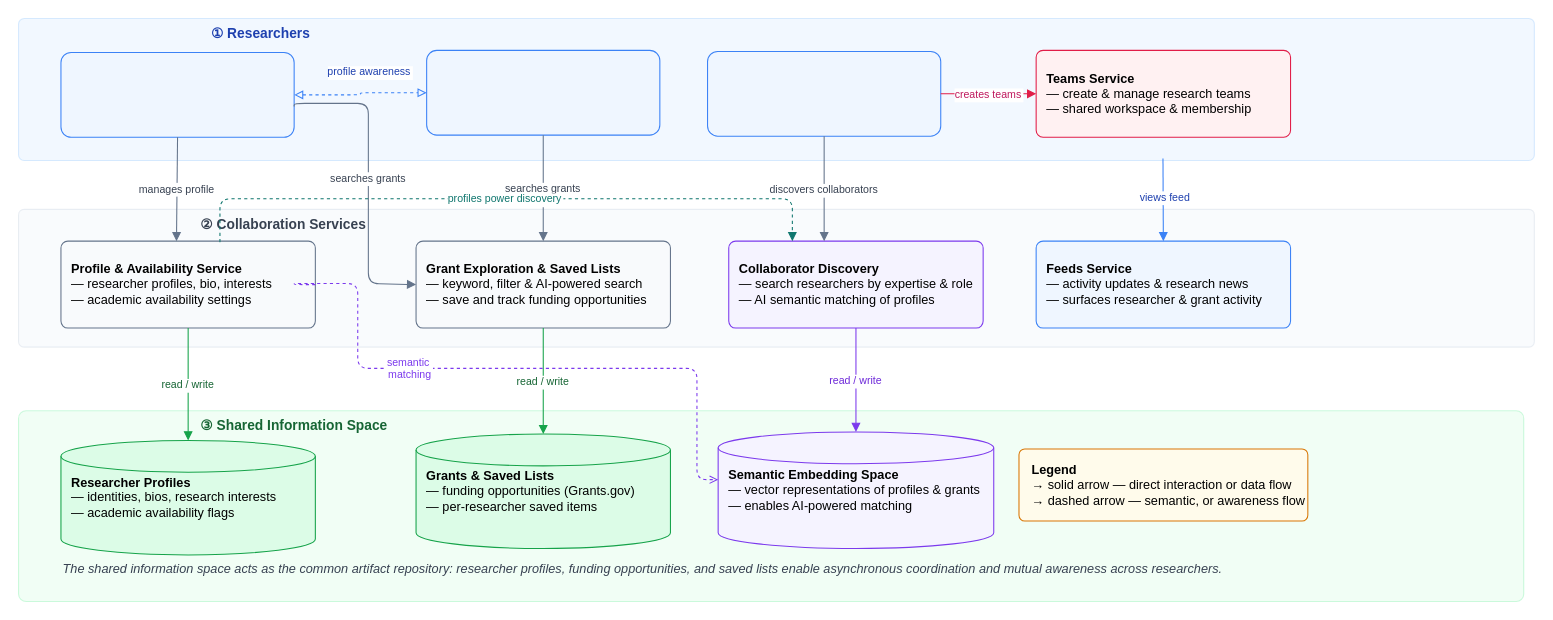
This 1553x620 diagram has some shape labels left out. Here are the shapes that lost their labels. From the top down, the box of each, then its label:
(60, 51, 294, 137): Researcher A searches grants, edits profile
(426, 49, 660, 135): Researcher B collaborator, profile visible to peers
(706, 50, 941, 136): Research Group / Lab multiple members, shared interests
